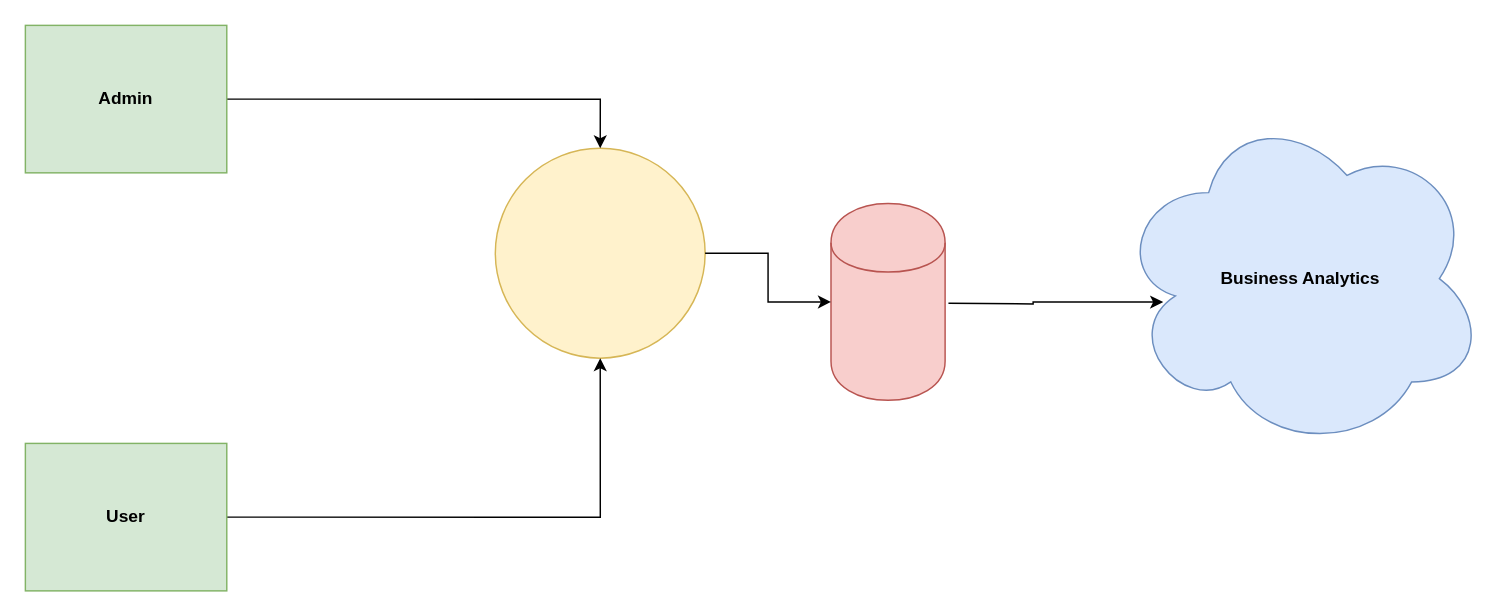
Some shapes in this 1511 by 616 pixel diagram are drawn without their labels. Here are the shapes that lost their labels. From the top down, the centre of each, then its label:
the point at 599,252: In House Web Application (Global IT)
the point at 887,301: Reporting Data
